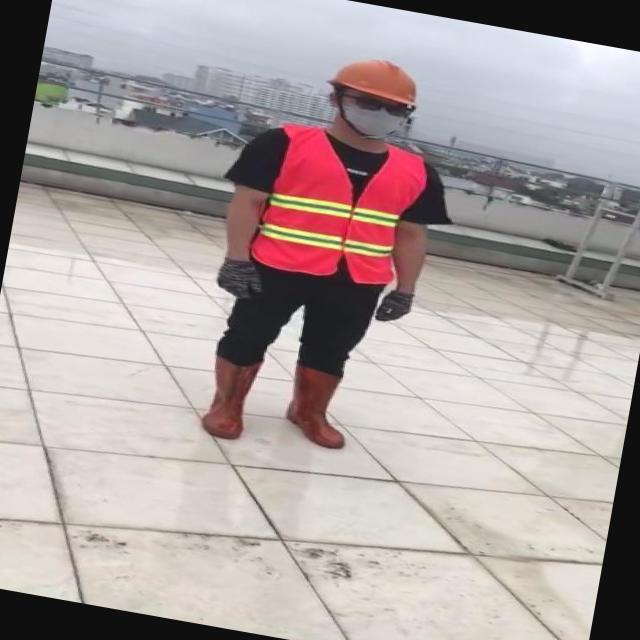boots: (279, 362, 354, 451), (195, 352, 261, 442)
gloves: (211, 254, 263, 301), (368, 282, 418, 329)
vest: (247, 123, 424, 290)
